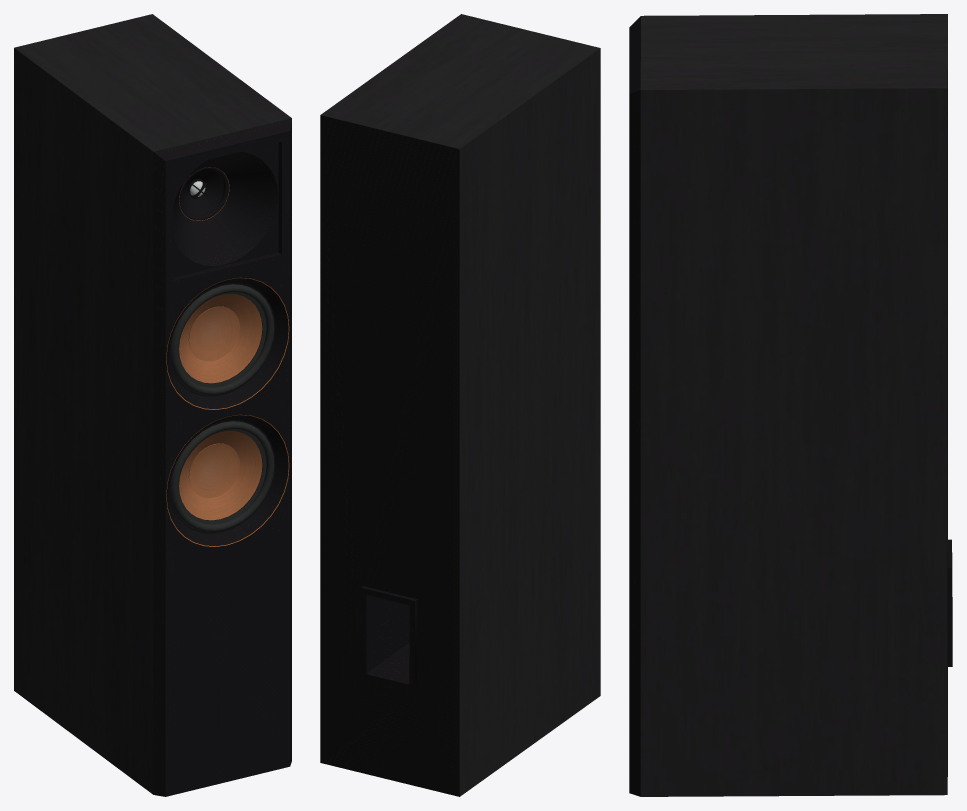
Rendered from speaker-tower.glb.
The picture shows the model from 3 angles, left to right: view 1: azimuth 30°, elevation 25°; view 2: azimuth 150°, elevation 25°; view 3: azimuth 270°, elevation 25°; orthographic projection. The views are drawn at different scales.
Parts seen in each view (by area): view 1: Object_18, Object_17, Object_19; view 2: Object_18, Object_17; view 3: Object_18, Object_17.
Boxes of the visible parts, x1,y1,x2,y2 form: Object_18: (14, 14, 291, 794); Object_17: (153, 118, 291, 796); Object_19: (179, 294, 262, 520); Object_18: (321, 14, 600, 796); Object_17: (320, 115, 459, 796); Object_18: (640, 14, 947, 796); Object_17: (629, 16, 952, 796).
Size of the model in its own units: 0.1623 by 0.7211 by 0.2984.
3 materials, 3 textured.
